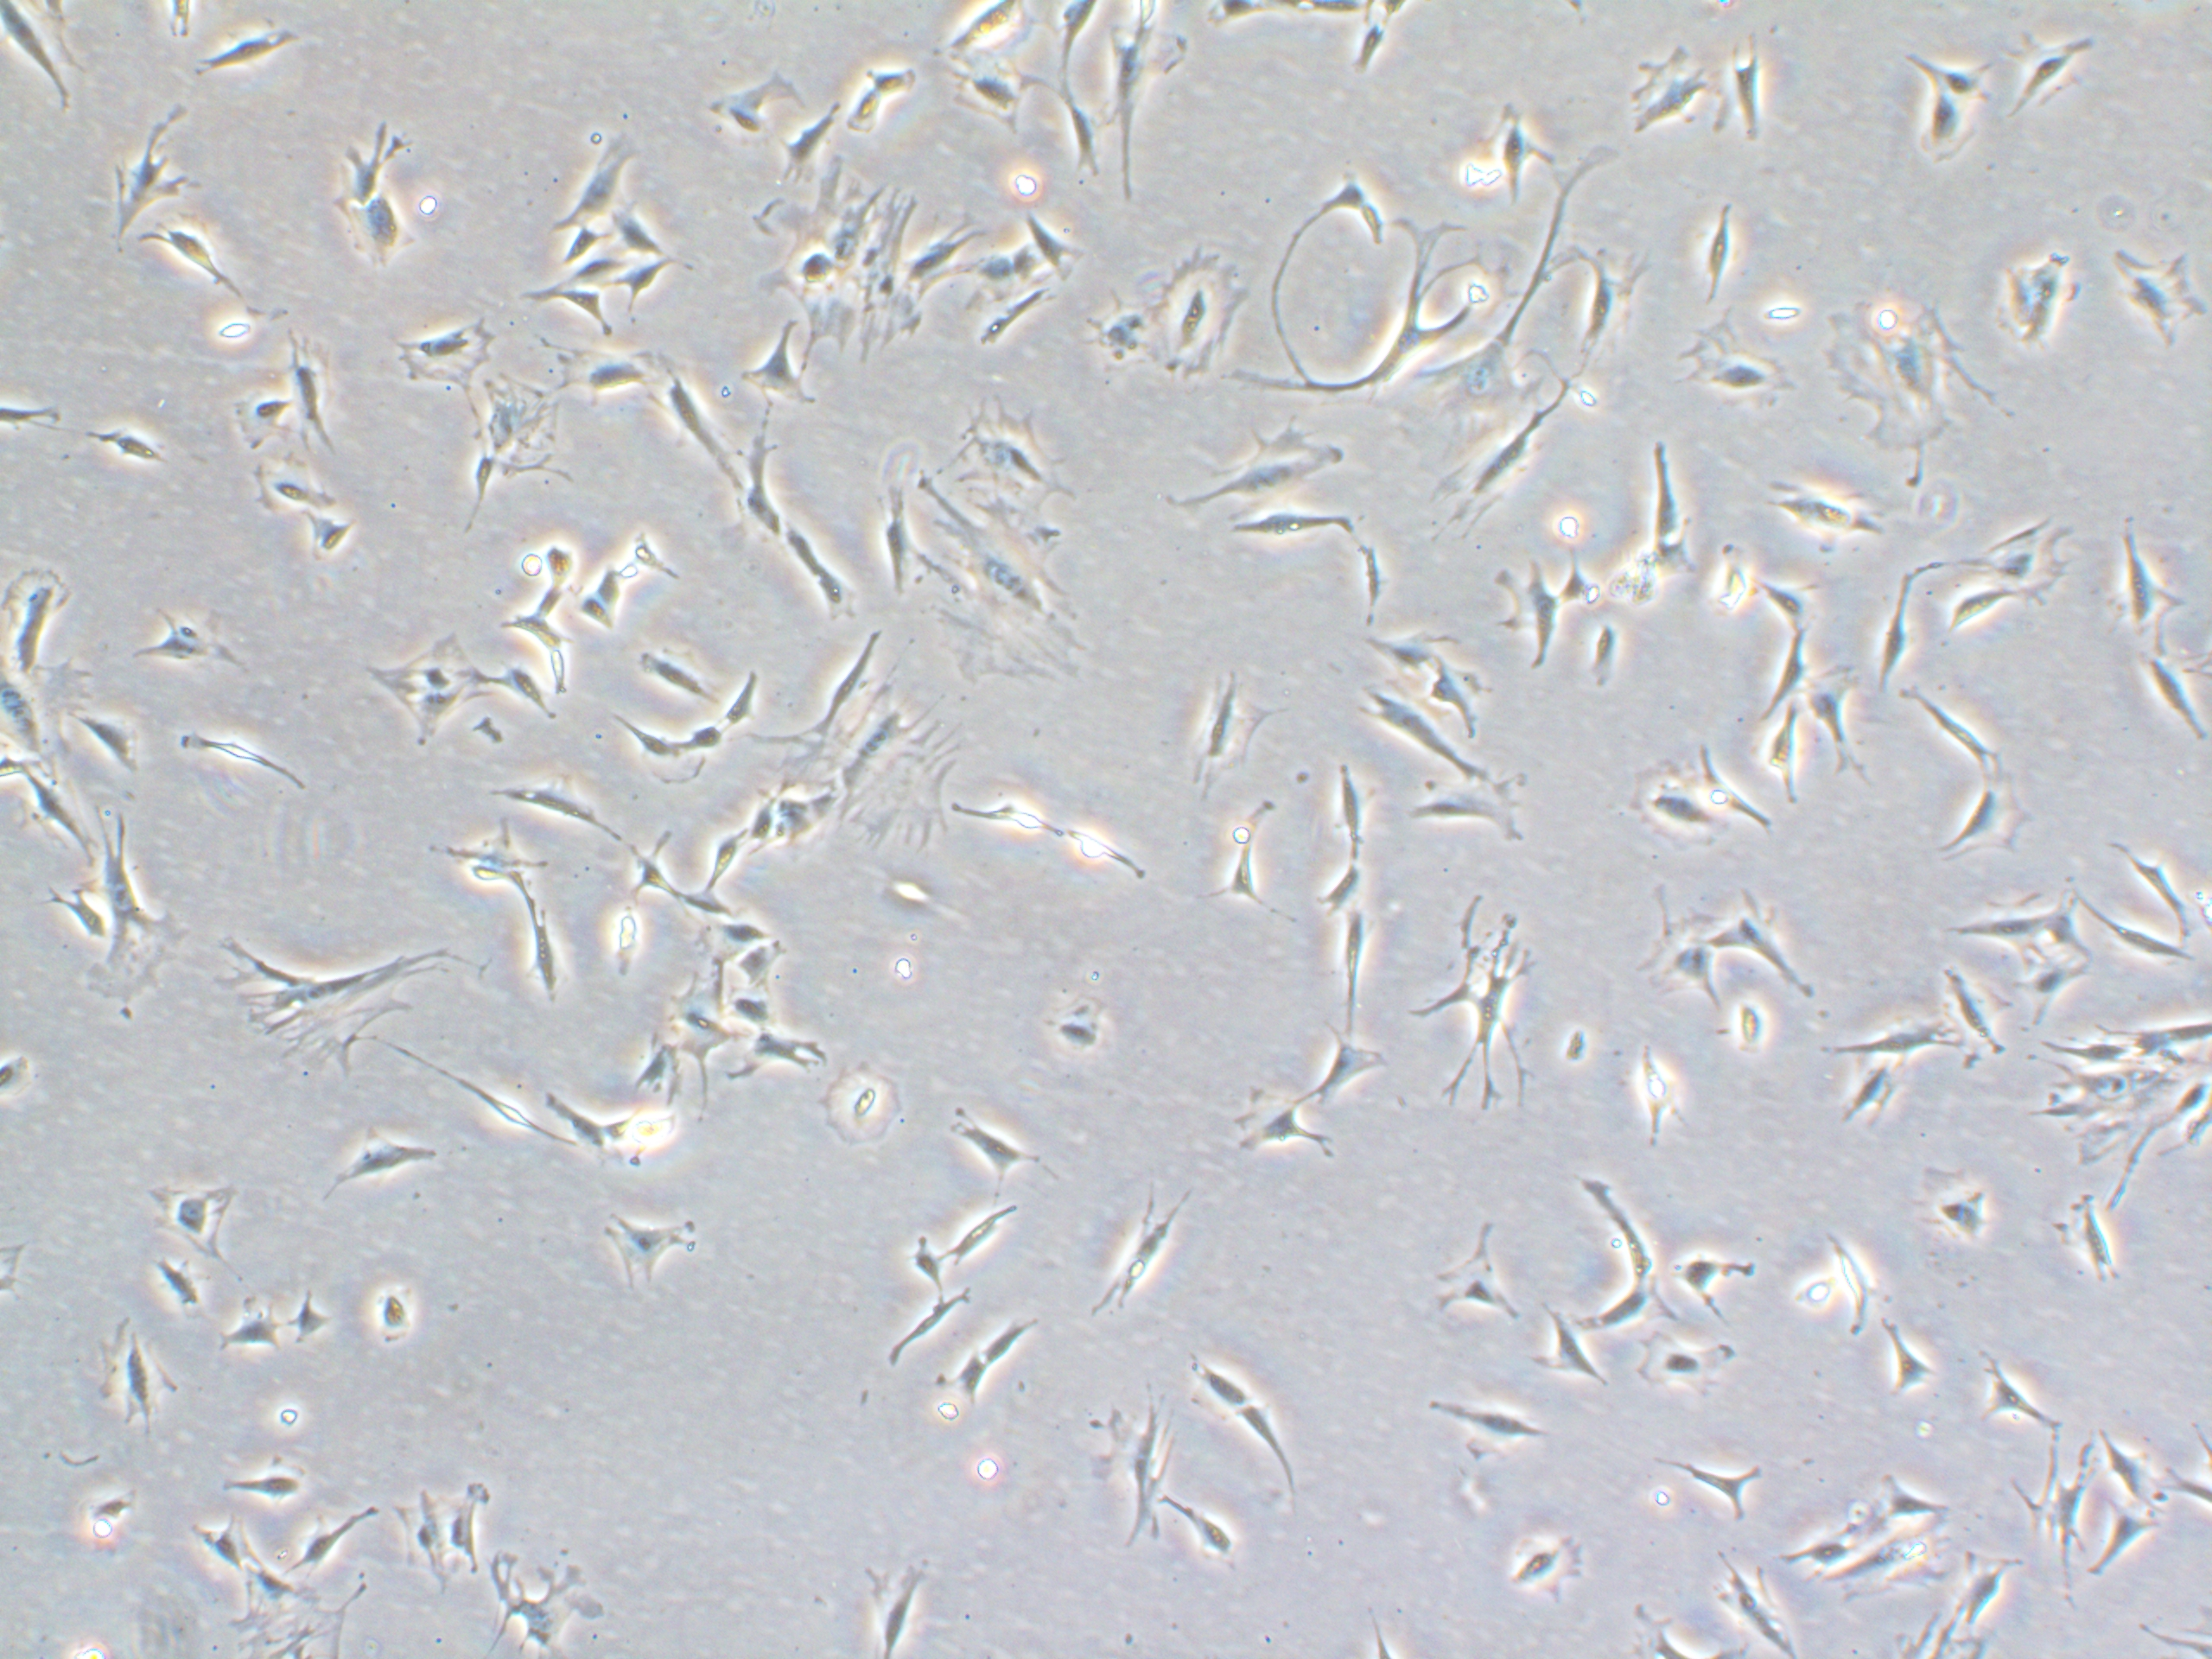small: (815, 1046, 948, 1162), (359, 1267, 434, 1375), (284, 1286, 341, 1352)
spread: (202, 924, 488, 1121), (733, 152, 979, 376), (904, 476, 1101, 713), (1804, 249, 1991, 479), (1381, 315, 1557, 495), (787, 697, 968, 856), (78, 800, 199, 1016), (2033, 1033, 2212, 1164), (958, 399, 1104, 549), (1141, 242, 1264, 397), (373, 617, 498, 769), (1662, 296, 1799, 415), (376, 284, 509, 399), (2104, 220, 2212, 355)
